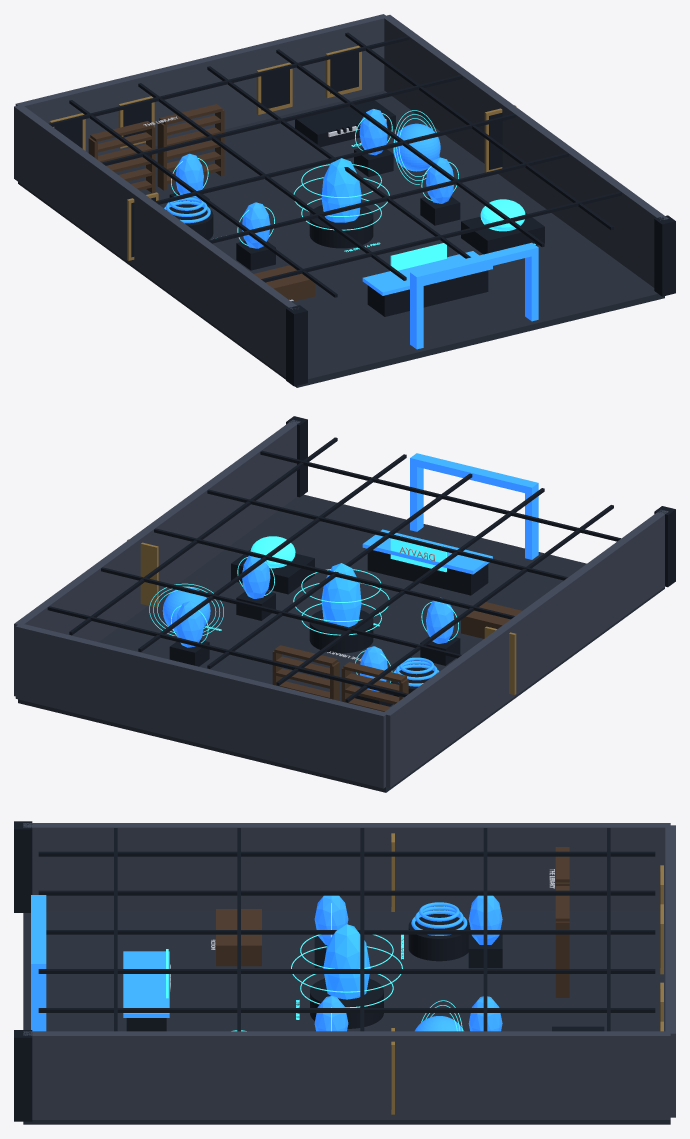
The model's file is museum.glb.
3 views of the same model, one above another, from view 1: azimuth 30°, elevation 25°; view 2: azimuth 150°, elevation 25°; view 3: azimuth 270°, elevation 25° (orthographic). The views are drawn at different scales.
Visible parts, largest first — view 1: GROUND_FLOOR, WALL_LEFT, WALL_RIGHT, WALL_REAR, RECEPTION_BASE, GRAND_PIANO_BODY, DRAVYA_CRYSTAL, CEILING_BEAM.006, CEILING_BEAM.008, CEILING_BEAM.009, CEILING_BEAM.005, CEILING_BEAM.007 (+29 smaller); view 2: GROUND_FLOOR, WALL_REAR, WALL_LEFT, WALL_RIGHT, RECEPTION_BASE, DRAVYA_CRYSTAL, CEILING_BEAM.007, CEILING_BEAM.005, CEILING_BEAM.006, CEILING_BEAM.008, CEILING_BEAM.009, CEILING_BEAM.003 (+23 smaller); view 3: WALL_RIGHT, GROUND_FLOOR, WALL_LEFT, CEILING_BEAM, CEILING_BEAM.001, CEILING_BEAM.003, CEILING_BEAM.004, CEILING_BEAM.002, WALL_REAR, RECEPTION_TOP, DRAVYA_CRYSTAL, FICTION_PLINTH (+21 smaller).
Part boxes in pixels (bbox=[...]): GROUND_FLOOR: bbox=[18, 90, 664, 387]; WALL_LEFT: bbox=[14, 105, 298, 377]; WALL_RIGHT: bbox=[383, 15, 668, 287]; WALL_REAR: bbox=[15, 14, 387, 155]; RECEPTION_BASE: bbox=[367, 270, 488, 316]; GRAND_PIANO_BODY: bbox=[295, 100, 395, 146]; DRAVYA_CRYSTAL: bbox=[321, 158, 361, 222]; CEILING_BEAM.006: bbox=[208, 152, 568, 243]; CEILING_BEAM.008: bbox=[101, 75, 462, 165]; CEILING_BEAM.009: bbox=[48, 36, 409, 126]; CEILING_BEAM.005: bbox=[261, 191, 621, 282]; CEILING_BEAM.007: bbox=[154, 114, 515, 204]; GROUND_FLOOR: bbox=[18, 494, 664, 792]; WALL_REAR: bbox=[15, 623, 385, 788]; WALL_LEFT: bbox=[382, 509, 668, 787]; WALL_RIGHT: bbox=[14, 419, 300, 696]; RECEPTION_BASE: bbox=[367, 550, 488, 595]; DRAVYA_CRYSTAL: bbox=[321, 563, 361, 627]; CEILING_BEAM.007: bbox=[154, 528, 514, 619]; CEILING_BEAM.005: bbox=[260, 450, 620, 541]; CEILING_BEAM.006: bbox=[207, 489, 567, 580]; CEILING_BEAM.008: bbox=[101, 567, 461, 658]; CEILING_BEAM.009: bbox=[47, 606, 408, 697]; CEILING_BEAM.003: bbox=[138, 454, 406, 651]; WALL_RIGHT: bbox=[23, 1031, 670, 1119]; GROUND_FLOOR: bbox=[23, 911, 670, 1124]; WALL_LEFT: bbox=[23, 823, 670, 911]; CEILING_BEAM: bbox=[38, 851, 655, 856]; CEILING_BEAM.001: bbox=[38, 890, 655, 895]; CEILING_BEAM.003: bbox=[38, 969, 655, 973]; CEILING_BEAM.004: bbox=[38, 1008, 655, 1012]; CEILING_BEAM.002: bbox=[46, 930, 655, 934]; WALL_REAR: bbox=[665, 825, 675, 1117]; RECEPTION_TOP: bbox=[123, 951, 169, 1017]; DRAVYA_CRYSTAL: bbox=[323, 924, 370, 999]; FICTION_PLINTH: bbox=[216, 909, 261, 966].
Size of the model in its own units: 33.7 by 6.89 by 42.95.
